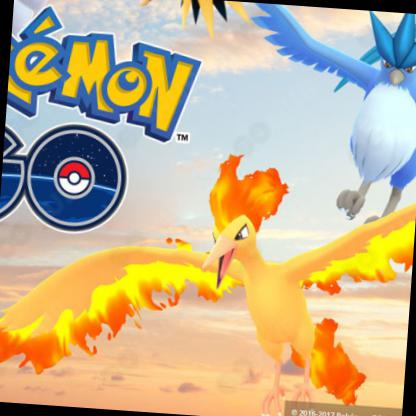Moltres: (1, 1, 416, 416)
